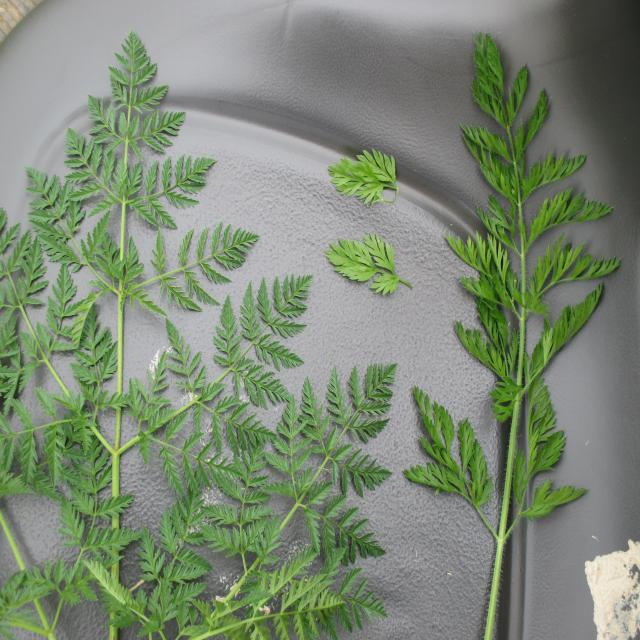Poisonous-Hemlock: (0, 32, 400, 640), (425, 48, 620, 640)
